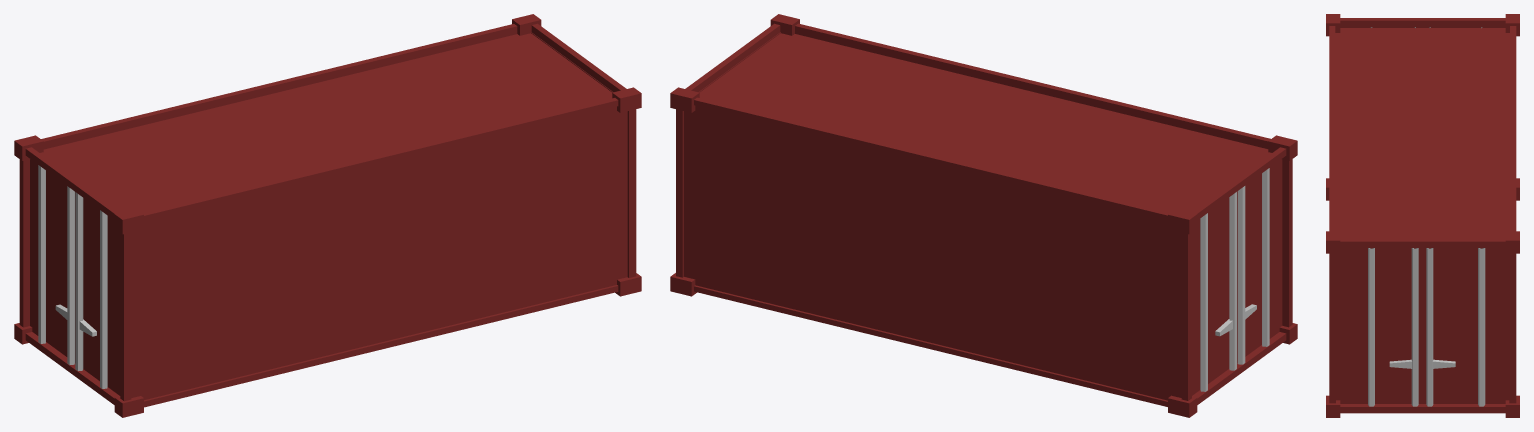
Rendered from ShippingContainer.fbx.
The picture shows the model from 3 angles, left to right: view 1: azimuth 30°, elevation 25°; view 2: azimuth 150°, elevation 25°; view 3: azimuth 270°, elevation 25°; orthographic projection. The views are drawn at different scales.
Parts seen in each view (by area): view 1: ShippingContainer; view 2: ShippingContainer; view 3: ShippingContainer.
Boxes of the visible parts, x1,y1,x2,y2 form: ShippingContainer: (14,14,641,417); ShippingContainer: (670,14,1297,417); ShippingContainer: (1326,14,1519,417).
Bounding box in the file's own units: 2310 × 842 × 835.
